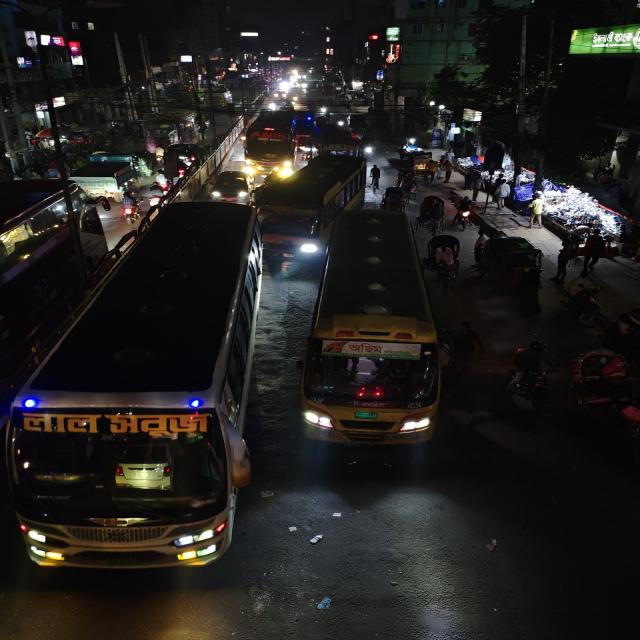bicycle: (368, 163, 383, 199)
bus: (5, 195, 260, 577), (307, 208, 437, 450), (0, 175, 101, 412), (253, 155, 365, 267), (241, 110, 299, 178), (312, 122, 366, 158)
car: (208, 169, 254, 201)
cng: (475, 235, 545, 287)
motorcycle: (504, 339, 556, 409), (565, 281, 605, 330), (450, 195, 476, 231), (118, 190, 143, 221)
pedestrian: (446, 320, 482, 372), (578, 229, 607, 274), (552, 239, 576, 280)
pickup_van: (68, 158, 142, 196)
rickshaw: (566, 346, 638, 420), (426, 234, 465, 282), (416, 193, 449, 233), (381, 184, 406, 212)
